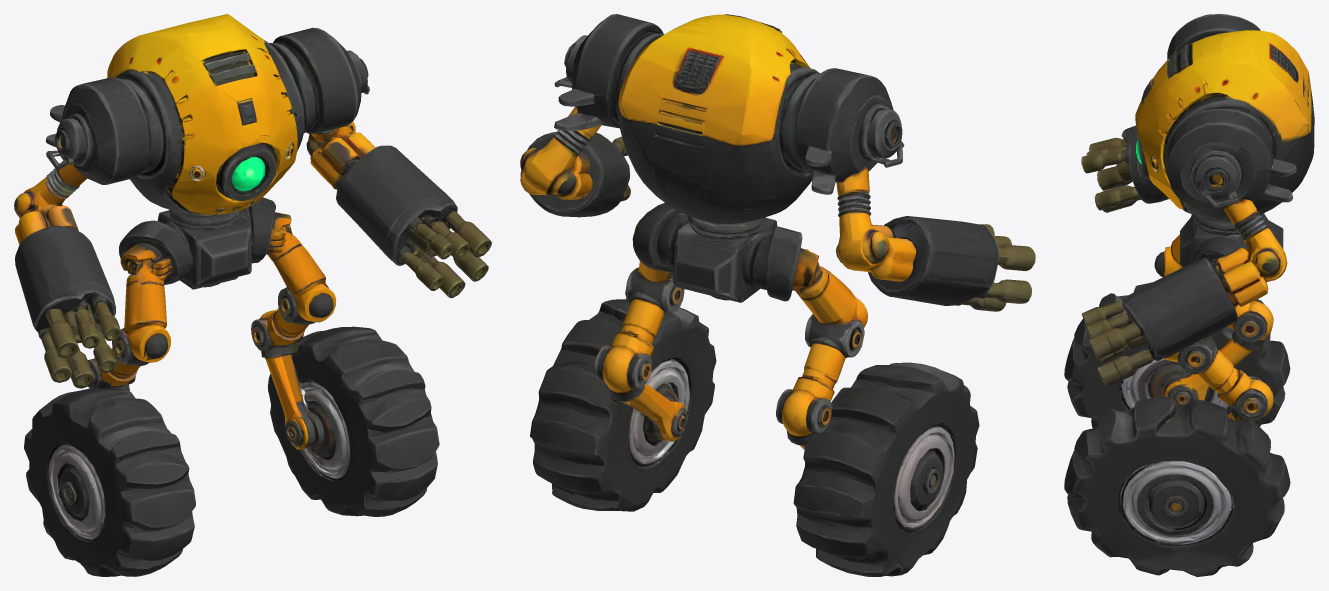
Rendered from veh-monowheel-mech-mesh.glb.
The picture shows the model from 3 angles, left to right: view 1: azimuth 30°, elevation 25°; view 2: azimuth 150°, elevation 25°; view 3: azimuth 270°, elevation 25°; orthographic projection. The views are drawn at different scales.
Parts seen in each view (by area): view 1: Mesh_0; view 2: Mesh_0; view 3: Mesh_0.
Part boxes in pixels (x1,y1,x2,y2): Mesh_0: (14, 14, 491, 576); Mesh_0: (520, 14, 1035, 576); Mesh_0: (1064, 14, 1314, 576).
Size of the model in its own units: 1.79 by 1.9 by 0.9223.
1 material, 1 textured.
